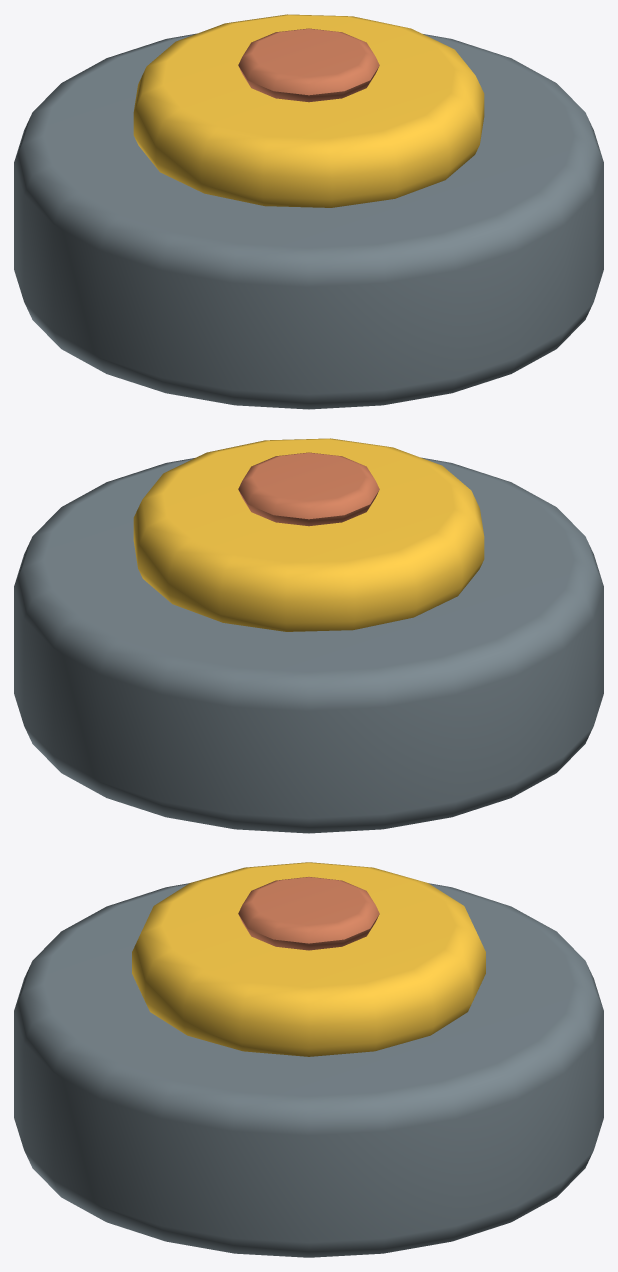
Rendered from mine_disc.glb.
3 views of the same model, one above another, from view 1: azimuth 30°, elevation 25°; view 2: azimuth 150°, elevation 25°; view 3: azimuth 270°, elevation 25° (orthographic).
Parts seen in each view (by area): view 1: Mine base, Mine cap, Mine center; view 2: Mine base, Mine cap, Mine center; view 3: Mine base, Mine cap, Mine center.
Part boxes in pixels (x1,y1,x2,y2): Mine base: (14,33,603,409); Mine cap: (133,14,484,207); Mine center: (238,28,379,102); Mine base: (14,457,603,833); Mine cap: (133,438,484,631); Mine center: (238,452,379,526); Mine base: (14,883,603,1257); Mine cap: (132,862,485,1056); Mine center: (238,877,379,950).
Bounding box in the file's own units: 0.5 × 0.2275 × 0.5.
